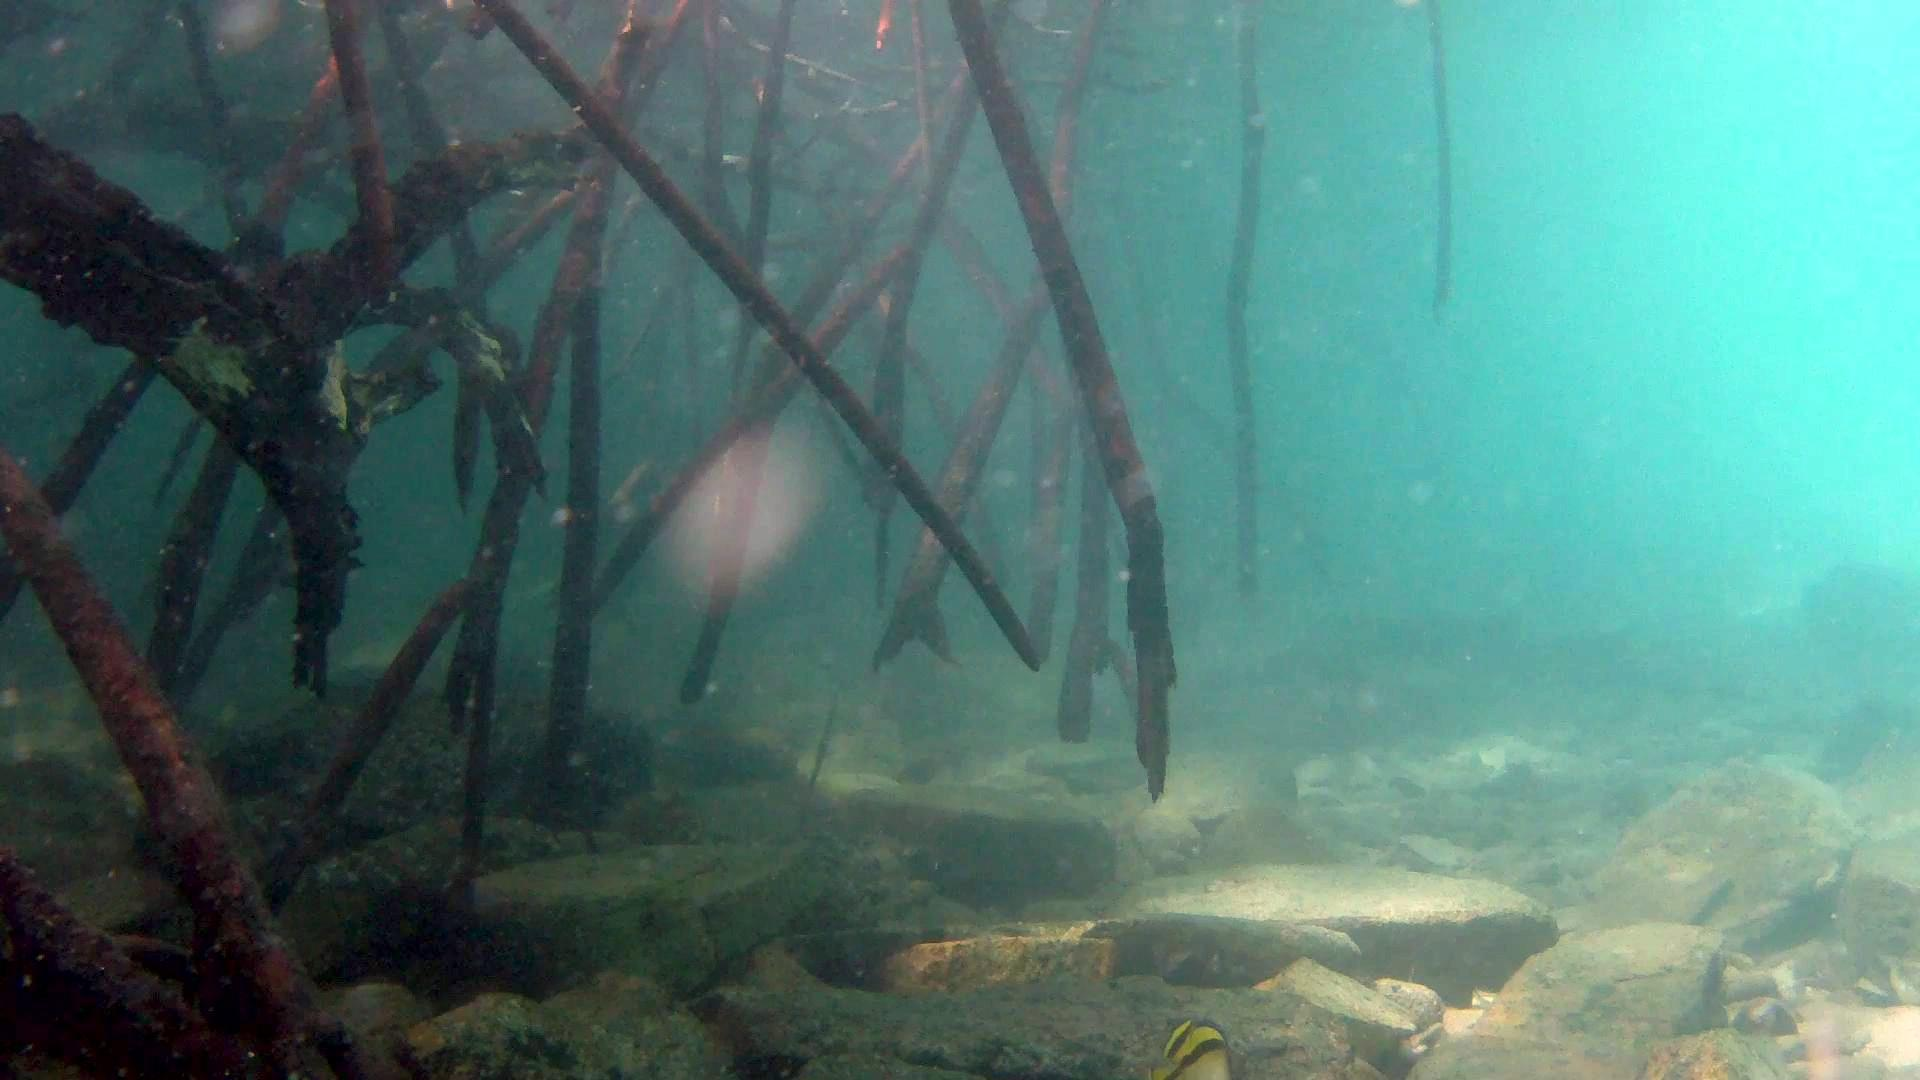chaetodon vagabundus: (1146, 1011, 1240, 1080)
